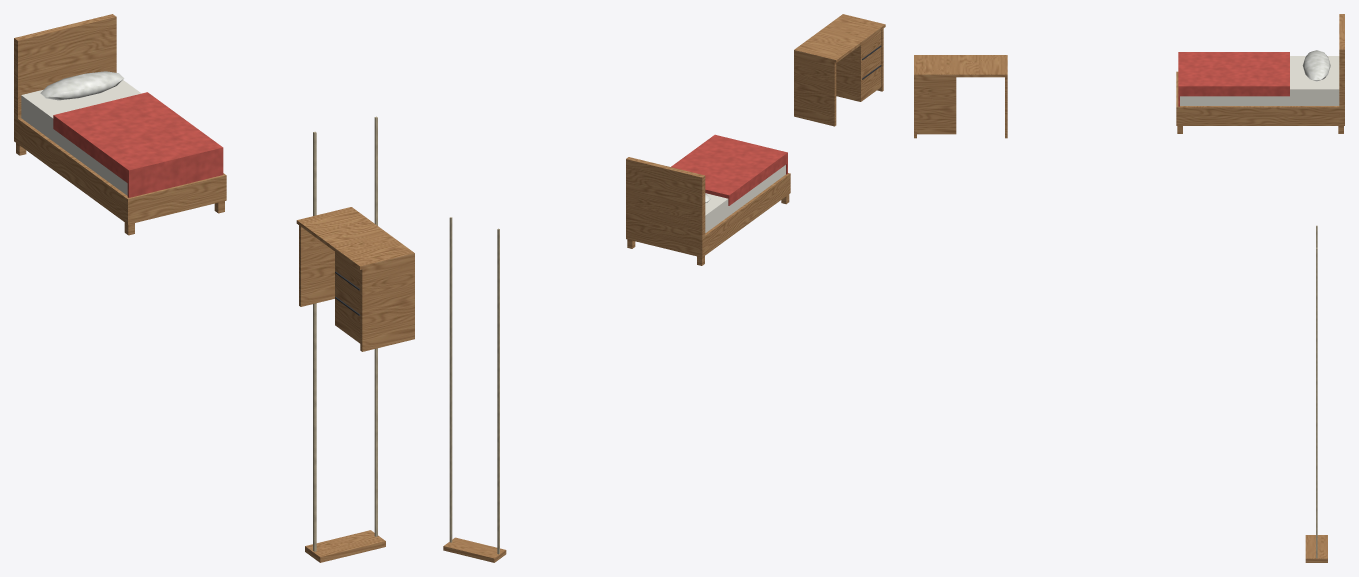
Rendered from i_treehouse_oak.gltf.
3 views of the same model, side by side, from view 1: azimuth 30°, elevation 25°; view 2: azimuth 150°, elevation 25°; view 3: azimuth 270°, elevation 25° (orthographic). The views are drawn at different scales.
Visible parts, largest first — view 1: I_treehouse_oak; view 2: I_treehouse_oak; view 3: I_treehouse_oak.
Boxes of the visible parts, bbox=[...] form: I_treehouse_oak: bbox=[14, 14, 414, 562]; I_treehouse_oak: bbox=[443, 14, 885, 562]; I_treehouse_oak: bbox=[914, 14, 1344, 562].
Size of the model in its own units: 3.15 by 5 by 4.6.
Materials: 6 (4 with a texture image).
